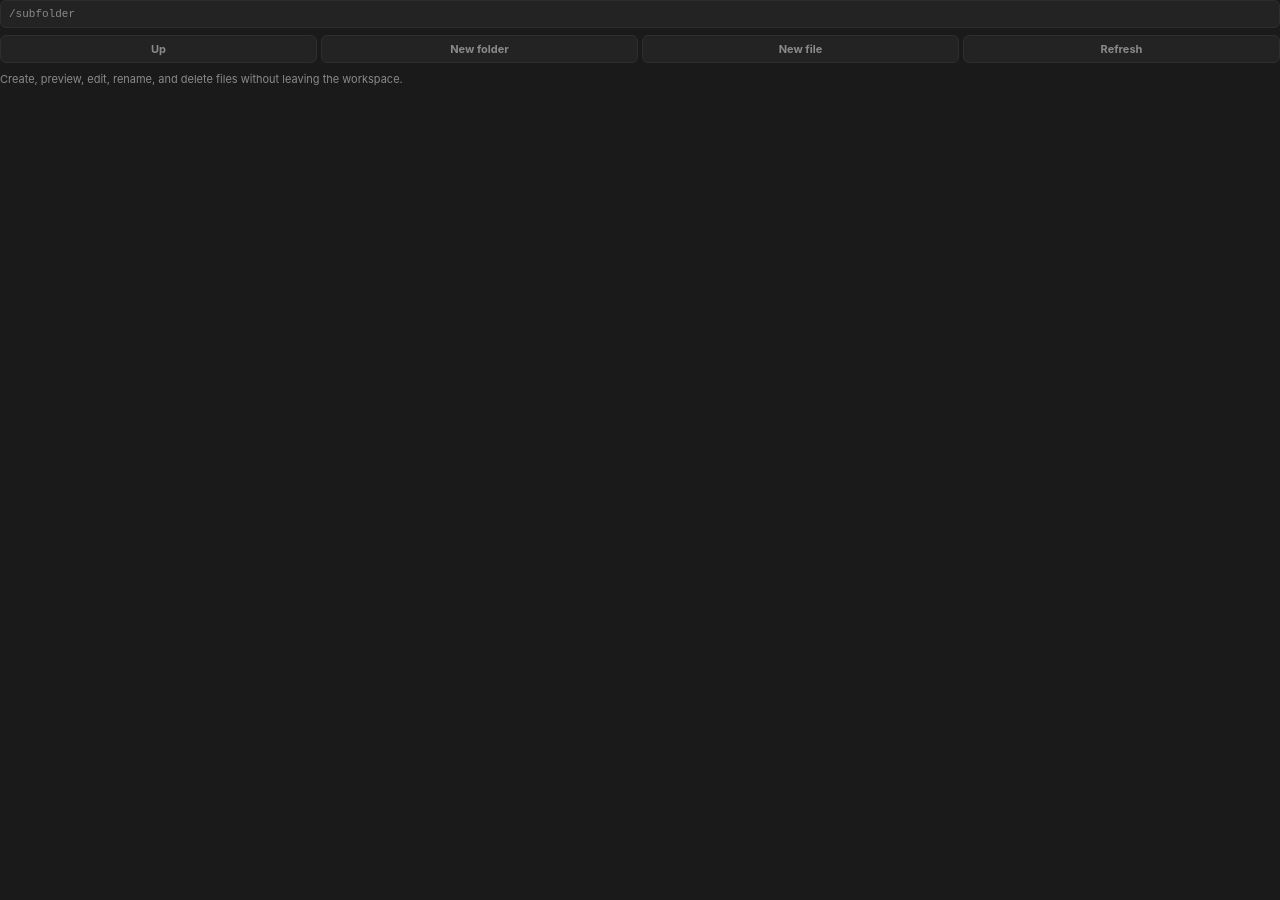
Test case: WorkspaceFilePanel - Error Clearing on Success › should clear error when navigating to parent succeeds after previous error
The image size is (1280, 900).
Expected: the text "/subfolder" is shown, [0,0,1279,28]
Click the button "New folder" at (480,49), box [321,35,638,63]
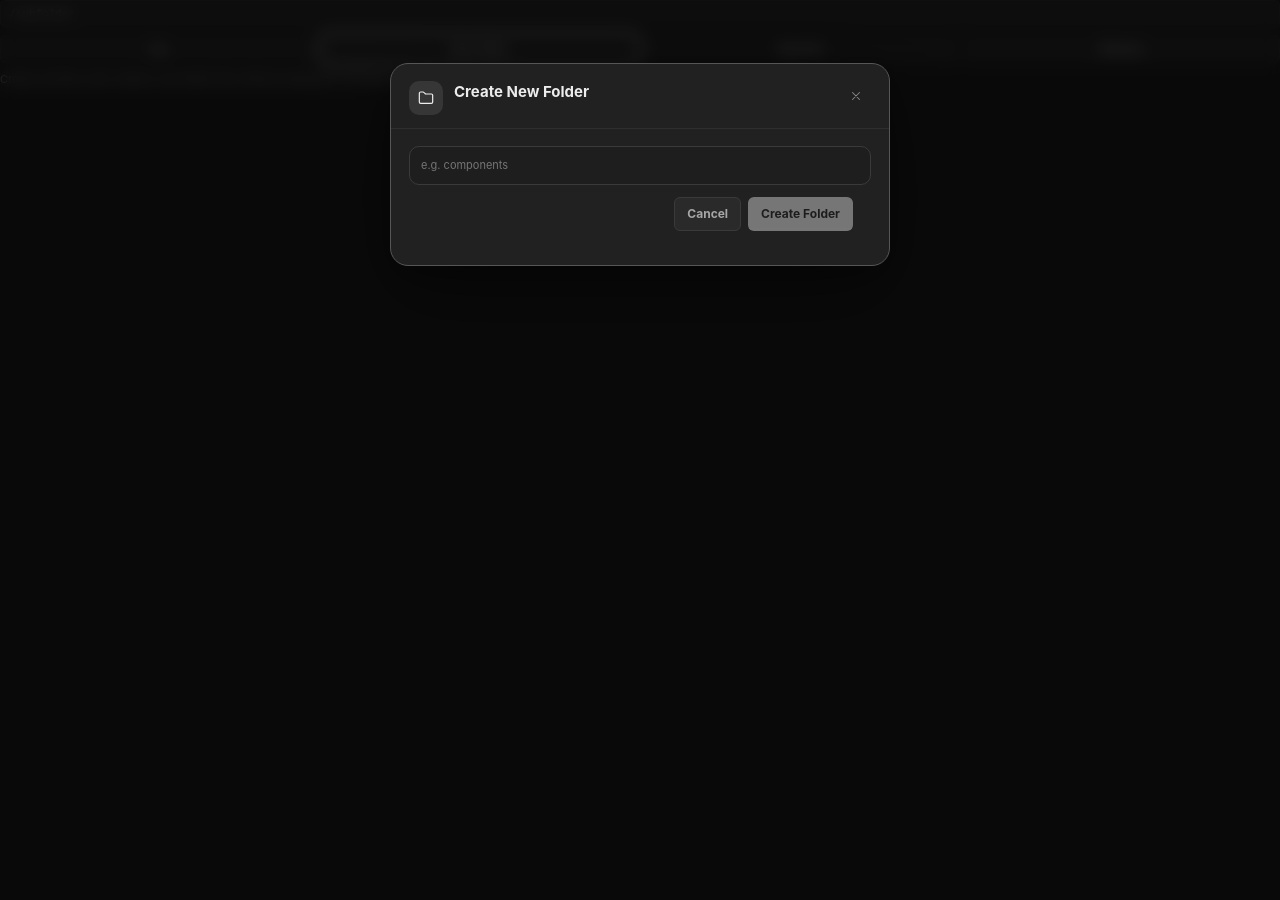
Type "test" into the field at (640,166), box [409,146,871,185]
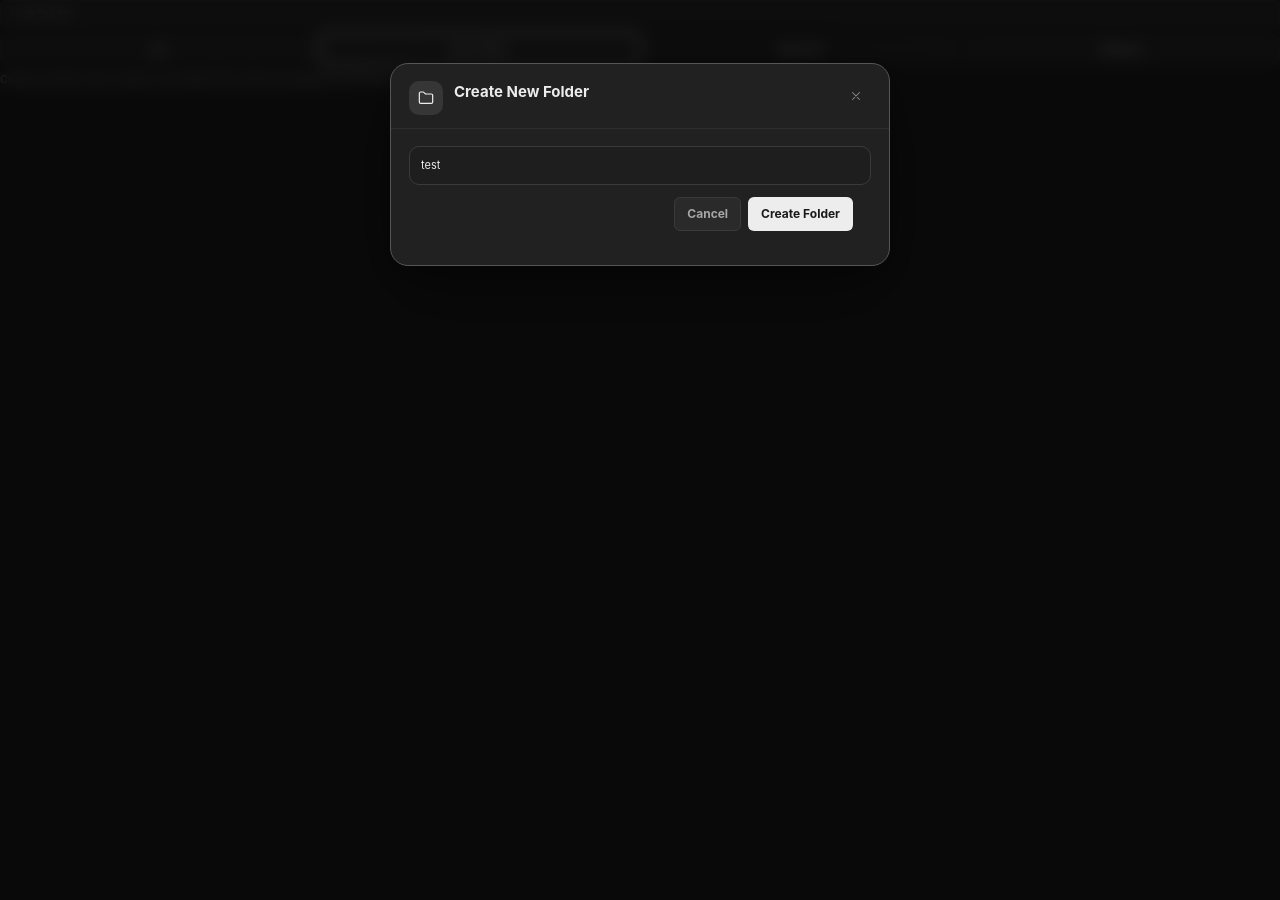
Click the button "Create Folder" at (801,214), box [748,197,853,231]
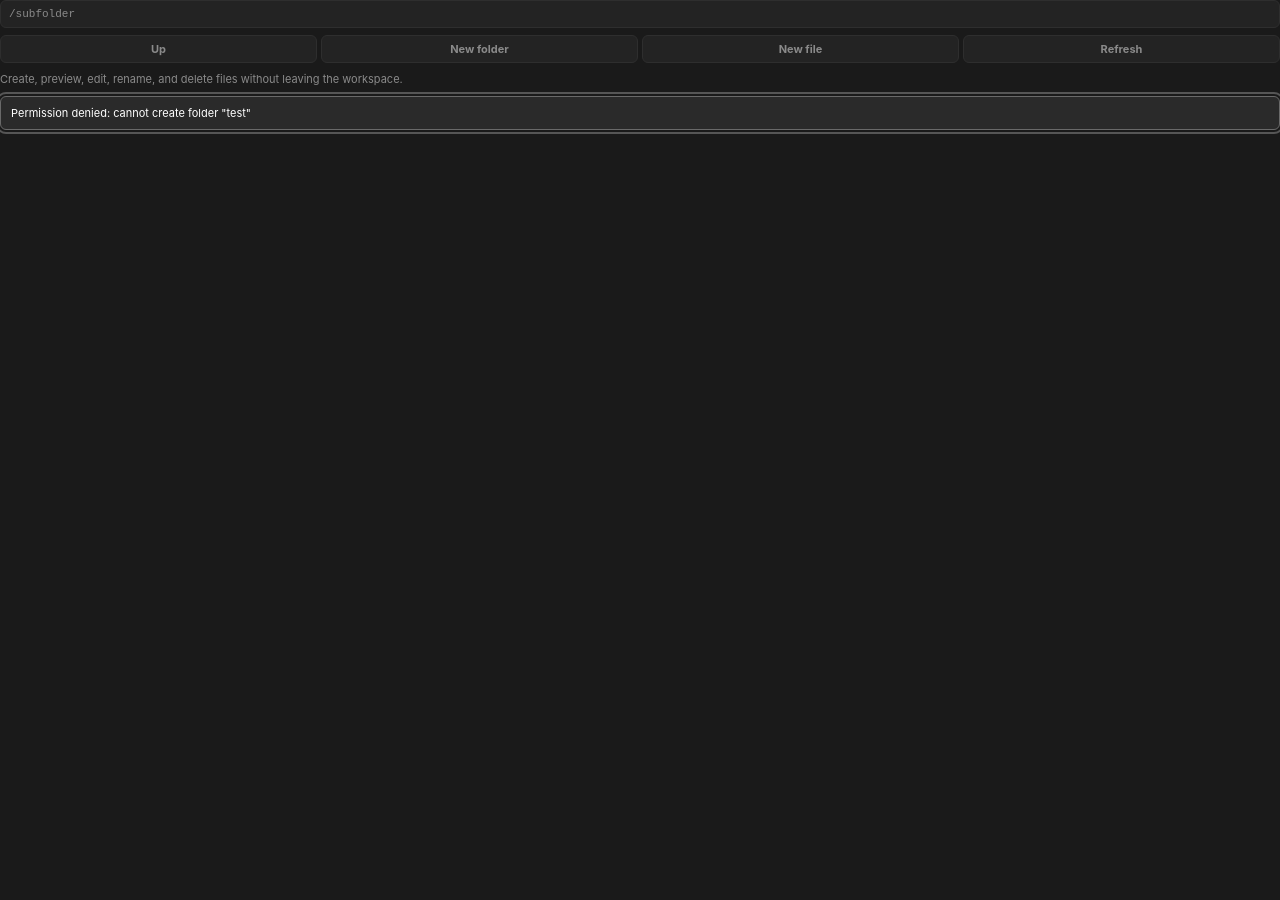
Result: the text "Permission denied: cannot create folder \"test\"" is shown at [0,96,1279,130]
Click the button "Up" at (158,49), box [0,35,317,63]
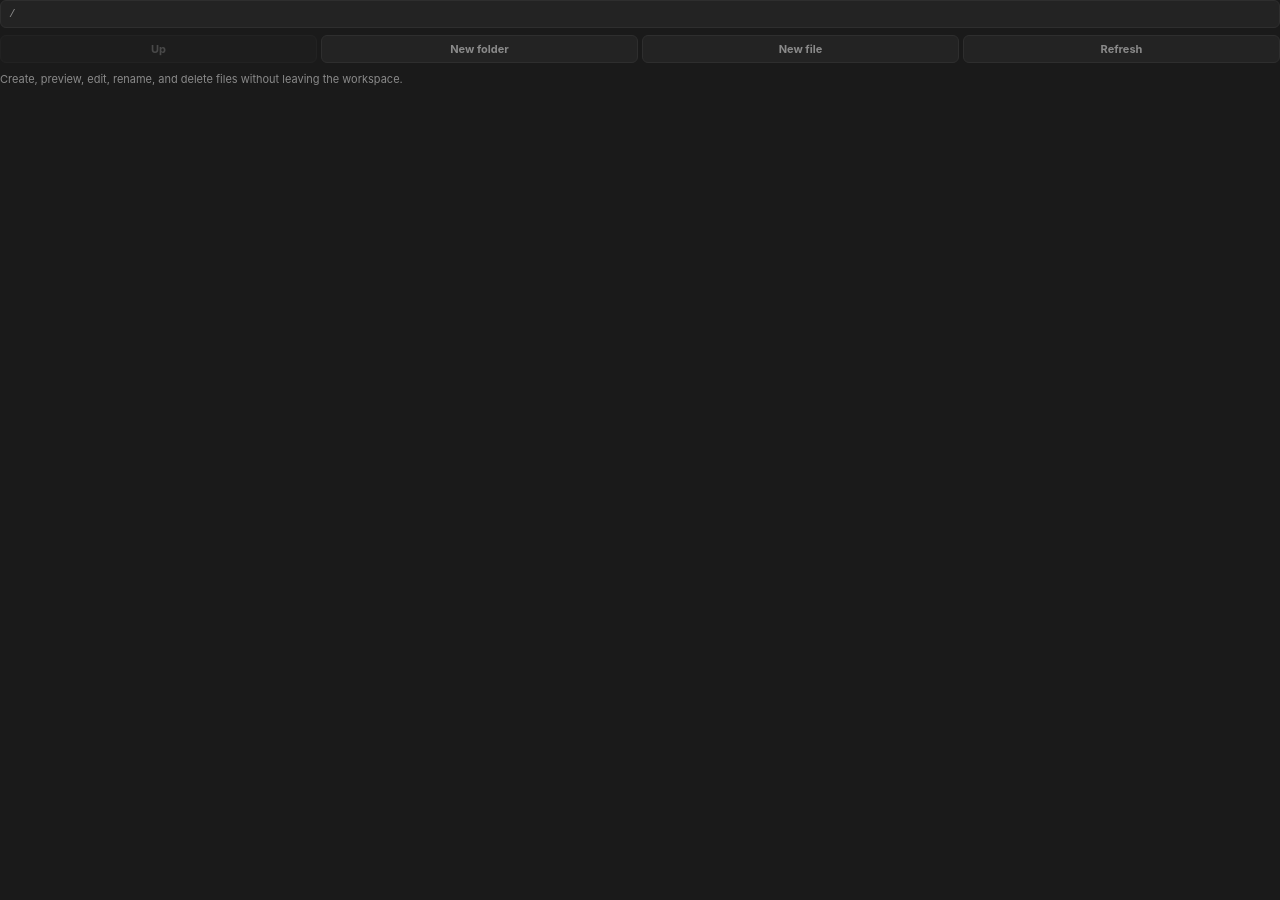
Result: the text "Permission denied" is gone
